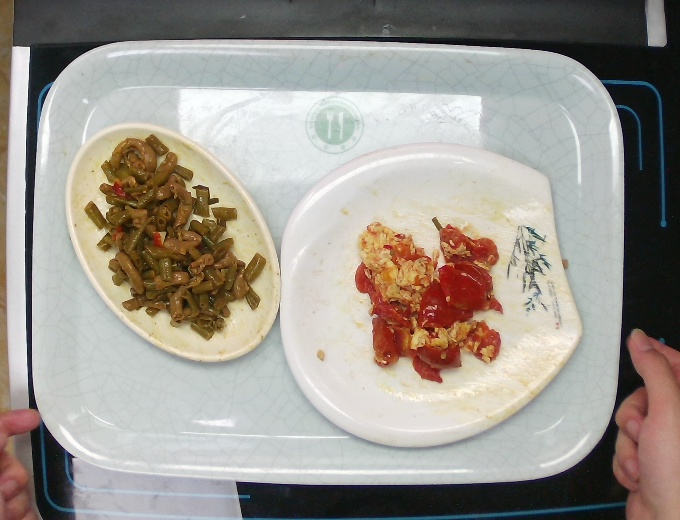JYsf-Mian_Pan: (274, 132, 590, 453)
JYsf-Tuo_Yuan_Wan: (61, 116, 286, 367)
